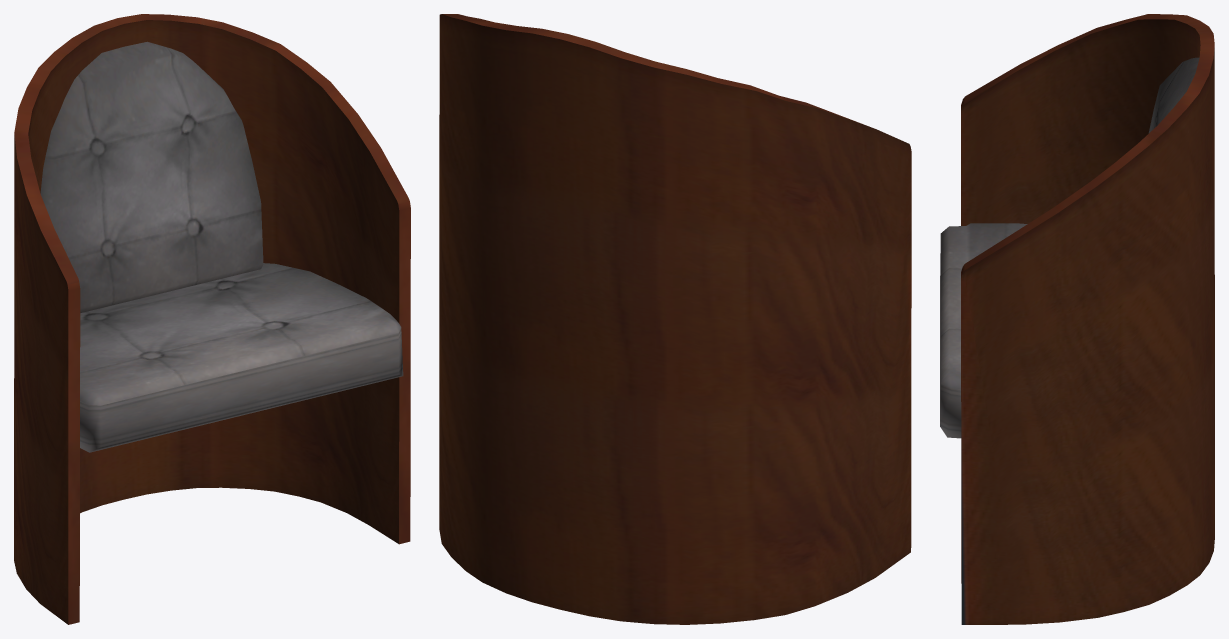
Rendered from Deco_BarChair.obj.
3 views of the same model, side by side, from view 1: azimuth 30°, elevation 25°; view 2: azimuth 150°, elevation 25°; view 3: azimuth 270°, elevation 25° (orthographic). The views are drawn at different scales.
Visible parts, largest first — view 1: Deco_BarChair; view 2: Deco_BarChair; view 3: Deco_BarChair.
Part boxes in pixels (bbox=[...]): Deco_BarChair: bbox=[14, 14, 410, 624]; Deco_BarChair: bbox=[439, 14, 911, 624]; Deco_BarChair: bbox=[940, 14, 1214, 624].
Size of the model in its own units: 114 by 152 by 76.55.
1 material, 1 textured.
